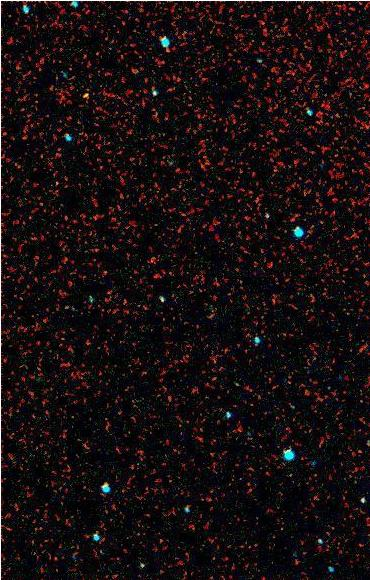star: (71, 82, 101, 112)
